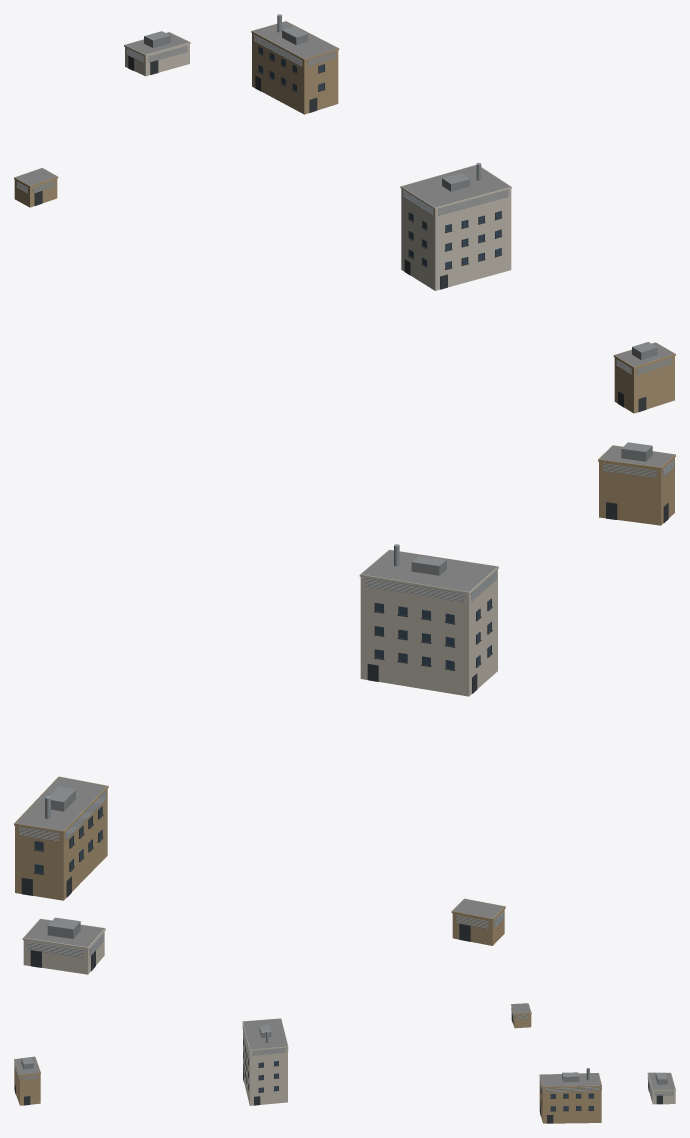
The model's file is imperial_campus_service_buildings.glb.
3 renders of one model, top to bottom at view 1: azimuth 30°, elevation 25°; view 2: azimuth 150°, elevation 25°; view 3: azimuth 270°, elevation 25°, orthographic. The views are drawn at different scales.
Size of the model in its own units: 64.48 by 20.5 by 164.
